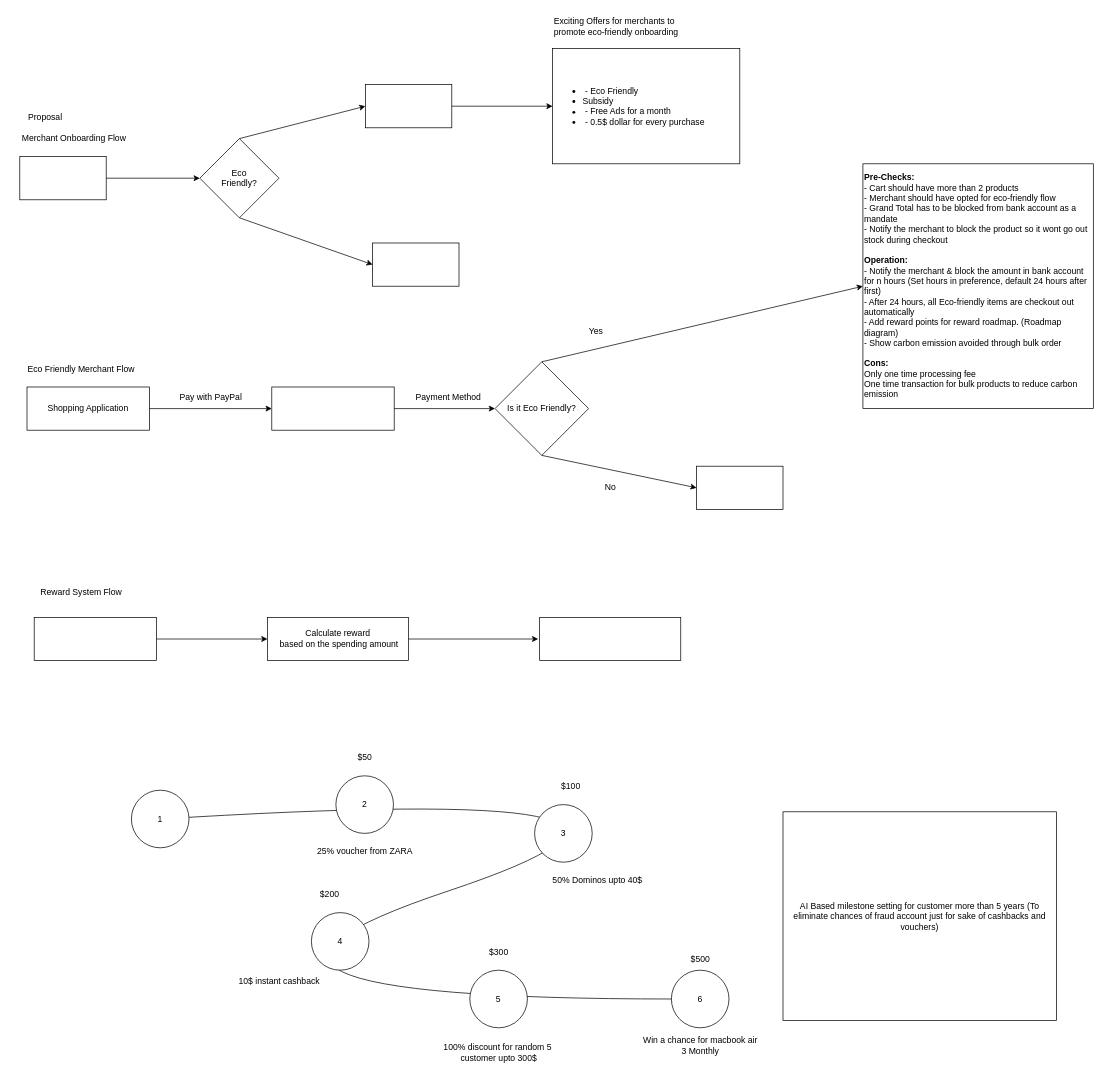
This 1106x1079 diagram has some shape labels left out. The shapes that lost their labels are listed below. From the top down, each one's box as (x1, y1, x2, y2) in pixels, then its label:
(365, 84, 452, 128): Eco Friendly
(19, 156, 106, 200): Merchant
(372, 242, 459, 286): No Eco Friendly
(271, 386, 394, 430): PayPal Checkout Page
(33, 617, 157, 661): Purchase fulfillemt via Eco Friendly checkout
(539, 617, 681, 661): Reward and milestone system
